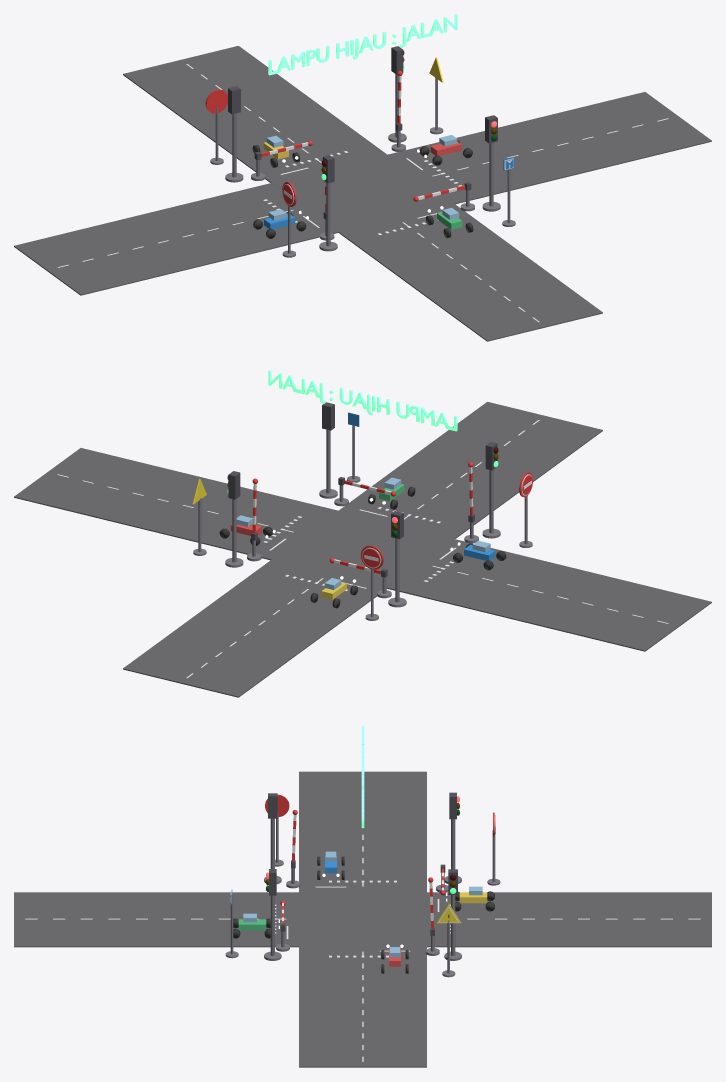
File: perempatan_animasi1.glb
3 renders of one model, top to bottom at view 1: azimuth 30°, elevation 25°; view 2: azimuth 150°, elevation 25°; view 3: azimuth 270°, elevation 25°, orthographic. The views are drawn at different scales.
Visible parts, largest first — view 1: Jalan_Utara_Selatan, Jalan_Timur_Barat, Teks_Hijau, Marka_Jalan, Badan_Lampu_ArahSelatan, Mobil_Ke_Barat, Badan_Lampu_ArahTimur, Badan_Lampu_ArahUtara, Mobil_Ke_Timur, Rambu_Larangan_ArahSelatan, Mobil_Ke_Utara, Badan_Lampu_ArahBarat (+1 smaller); view 2: Jalan_Utara_Selatan, Jalan_Timur_Barat, Teks_Hijau, Marka_Jalan, Badan_Lampu_ArahUtara, Badan_Lampu_ArahBarat, Mobil_Ke_Timur, Badan_Lampu_ArahTimur, Badan_Lampu_ArahSelatan, Rambu_Larangan_ArahSelatan, Mobil_Ke_Selatan, Mobil_Ke_Barat (+2 smaller); view 3: Jalan_Utara_Selatan, Jalan_Timur_Barat, Marka_Jalan, Mobil_Ke_Selatan, Mobil_Ke_Utara, Badan_Lampu_ArahUtara, Badan_Lampu_ArahTimur.
Boxes of the visible parts, left/top/right/bottom form: Jalan_Utara_Selatan: left=123, top=46, right=602, bottom=341; Jalan_Timur_Barat: left=14, top=92, right=711, bottom=295; Teks_Hijau: left=268, top=14, right=457, bottom=75; Marka_Jalan: left=57, top=64, right=668, bottom=322; Badan_Lampu_ArahSelatan: left=225, top=86, right=243, bottom=182; Mobil_Ke_Barat: left=417, top=135, right=472, bottom=165; Badan_Lampu_ArahTimur: left=319, top=154, right=337, bottom=251; Badan_Lampu_ArahUtara: left=482, top=115, right=500, bottom=211; Mobil_Ke_Timur: left=253, top=209, right=308, bottom=238; Rambu_Larangan_ArahSelatan: left=205, top=89, right=227, bottom=164; Mobil_Ke_Utara: left=426, top=206, right=473, bottom=238; Badan_Lampu_ArahBarat: left=388, top=46, right=406, bottom=142; Jalan_Utara_Selatan: left=123, top=402, right=602, bottom=697; Jalan_Timur_Barat: left=14, top=448, right=711, bottom=651; Teks_Hijau: left=268, top=370, right=457, bottom=431; Marka_Jalan: left=57, top=420, right=668, bottom=678; Badan_Lampu_ArahUtara: left=319, top=402, right=337, bottom=498; Badan_Lampu_ArahBarat: left=225, top=471, right=243, bottom=567; Mobil_Ke_Timur: left=450, top=540, right=506, bottom=570; Badan_Lampu_ArahTimur: left=482, top=442, right=500, bottom=538; Badan_Lampu_ArahSelatan: left=388, top=511, right=406, bottom=607; Rambu_Larangan_ArahSelatan: left=361, top=545, right=383, bottom=620; Mobil_Ke_Selatan: left=310, top=576, right=357, bottom=608; Mobil_Ke_Barat: left=219, top=515, right=275, bottom=545; Jalan_Utara_Selatan: left=14, top=892, right=711, bottom=947; Jalan_Timur_Barat: left=299, top=771, right=426, bottom=1067; Marka_Jalan: left=25, top=828, right=700, bottom=1061; Mobil_Ke_Selatan: left=446, top=886, right=494, bottom=911; Mobil_Ke_Utara: left=233, top=913, right=279, bottom=938; Badan_Lampu_ArahUtara: left=264, top=869, right=281, bottom=960; Badan_Lampu_ArahTimur: left=264, top=793, right=281, bottom=884.
Size of the model in its own units: 24 by 5.7 by 24.
